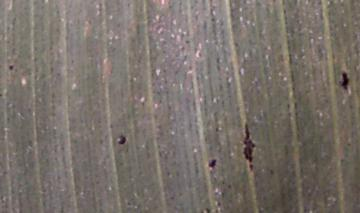tarspot: (239, 120, 259, 173), (339, 64, 351, 96), (205, 155, 219, 172), (115, 131, 129, 147), (7, 63, 16, 74), (199, 206, 212, 213), (215, 199, 224, 209)
